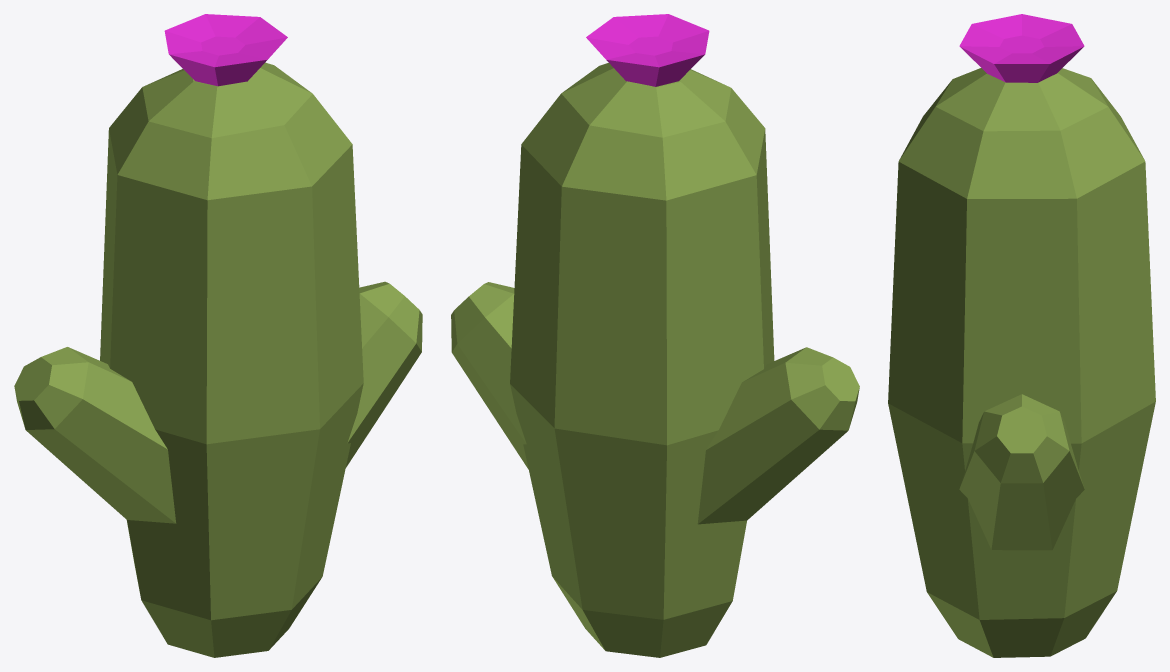
The model's file is cactus02.fbx.
3 renders of one model, left to right at view 1: azimuth 30°, elevation 25°; view 2: azimuth 150°, elevation 25°; view 3: azimuth 270°, elevation 25°, orthographic.
Visible parts, largest first — view 1: cactus02; view 2: cactus02; view 3: cactus02.
Part boxes in pixels (x1,y1,x2,y2): cactus02: [14, 14, 422, 657]; cactus02: [451, 14, 859, 657]; cactus02: [888, 14, 1155, 657].
Size of the model in its own units: 1.2 by 1.71 by 0.699.
